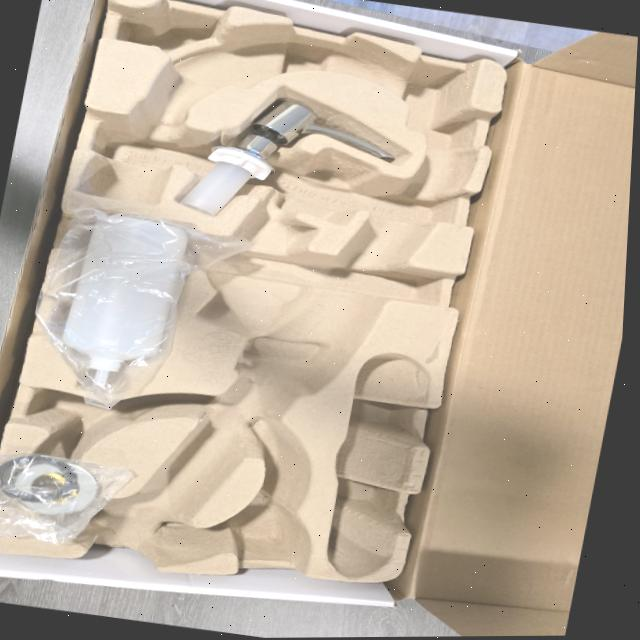1m: (78, 28, 477, 567)
2: (181, 99, 398, 217)
3: (58, 214, 193, 386)
4m: (330, 352, 432, 578)
5m: (237, 506, 298, 549)
6: (0, 451, 135, 546)
7m: (28, 389, 166, 452)
